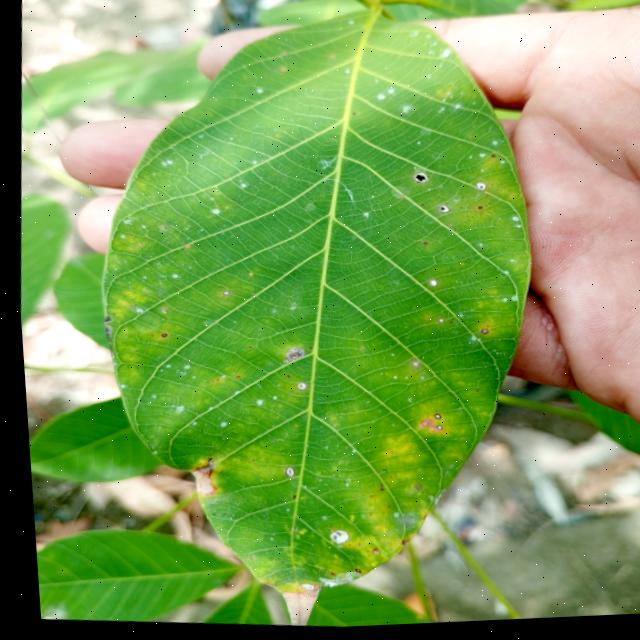Colletotrichum: (277, 468, 289, 480), (472, 185, 484, 195), (435, 208, 447, 218), (291, 383, 302, 393), (475, 332, 483, 340), (427, 416, 435, 423), (218, 292, 226, 298), (364, 551, 371, 557), (346, 571, 352, 575), (430, 429, 436, 433), (433, 322, 439, 326), (156, 334, 162, 338), (420, 246, 424, 249), (475, 210, 479, 213), (488, 159, 492, 161), (418, 208, 420, 210)
Leaf-Blight: (270, 583, 314, 630), (183, 471, 210, 498), (411, 421, 439, 436)
